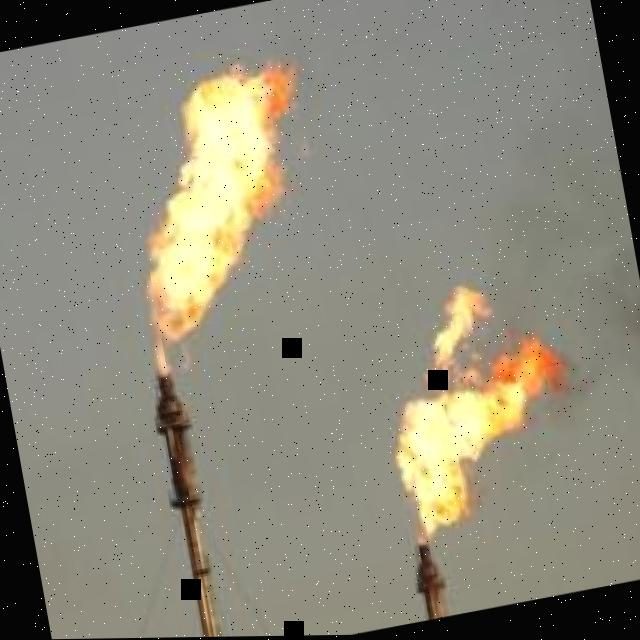fire: (142, 60, 301, 372), (396, 292, 564, 549)
smoke: (540, 240, 640, 432)
